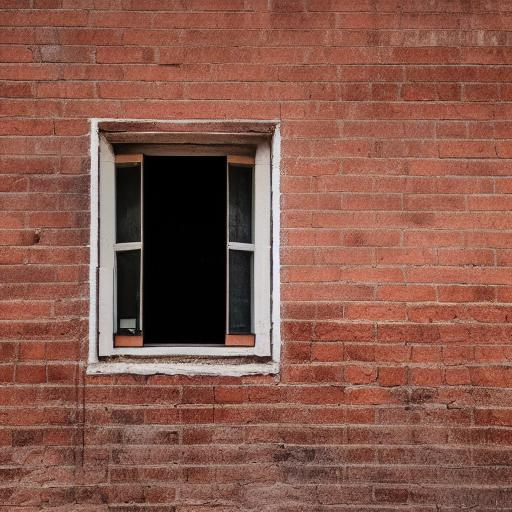Window: (84, 117, 284, 378)
